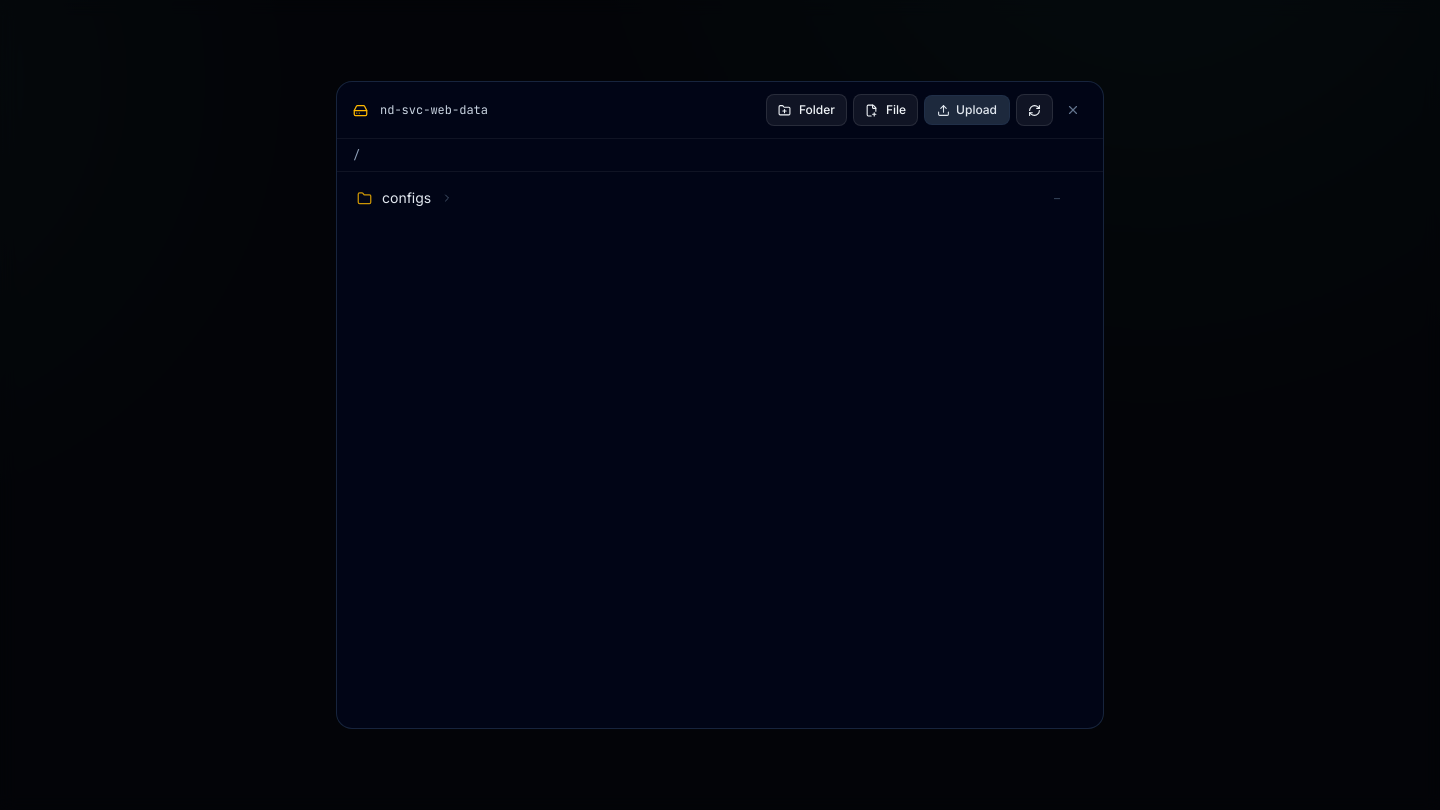
Test case: VolumeBrowser › covers save-pending state and nested folder/file creation paths
This screenshot has width=1440, height=810.
Note: folder creation inside a subdirectory (cwd non-empty branch)
Click the button "configs" at (407, 198), box [357,188,1044,208]
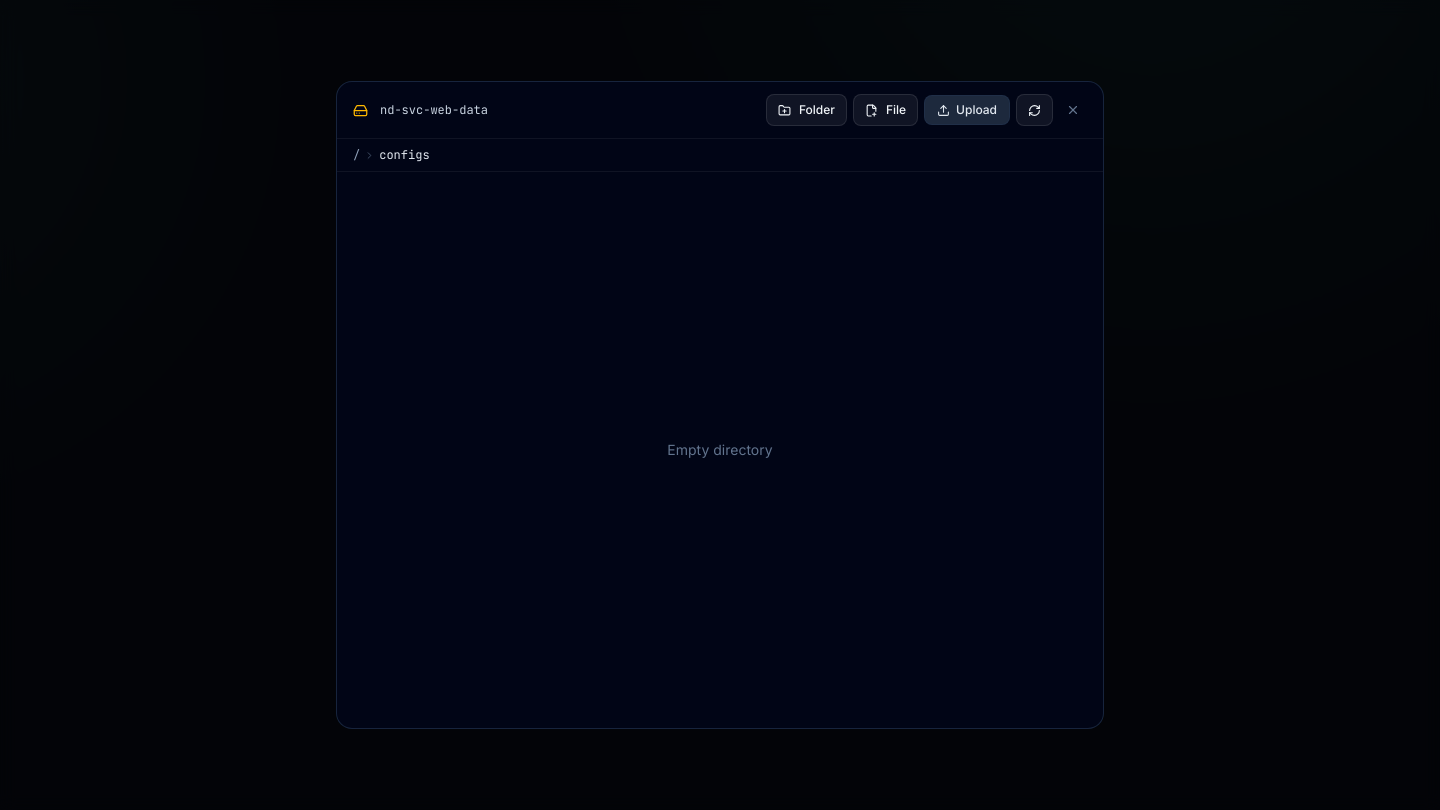
Now the text "Empty directory" is shown, box [667,441,773,458]
Click the button "Folder" at (806, 110), box [766,94,847,126]
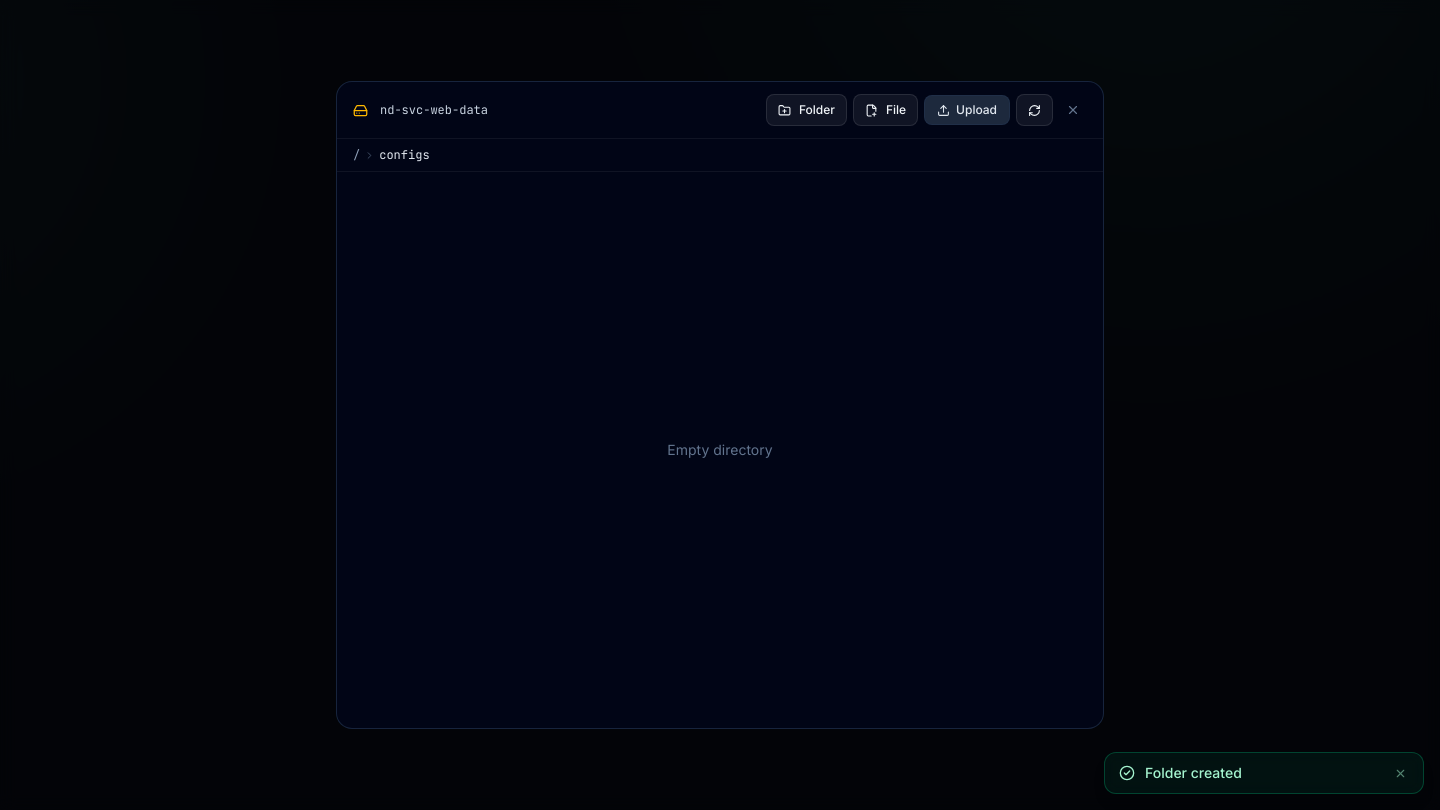
Note: new file inside a subdirectory (cwd non-empty branch)
Click the button "File" at (886, 110), box [853,94,918,126]
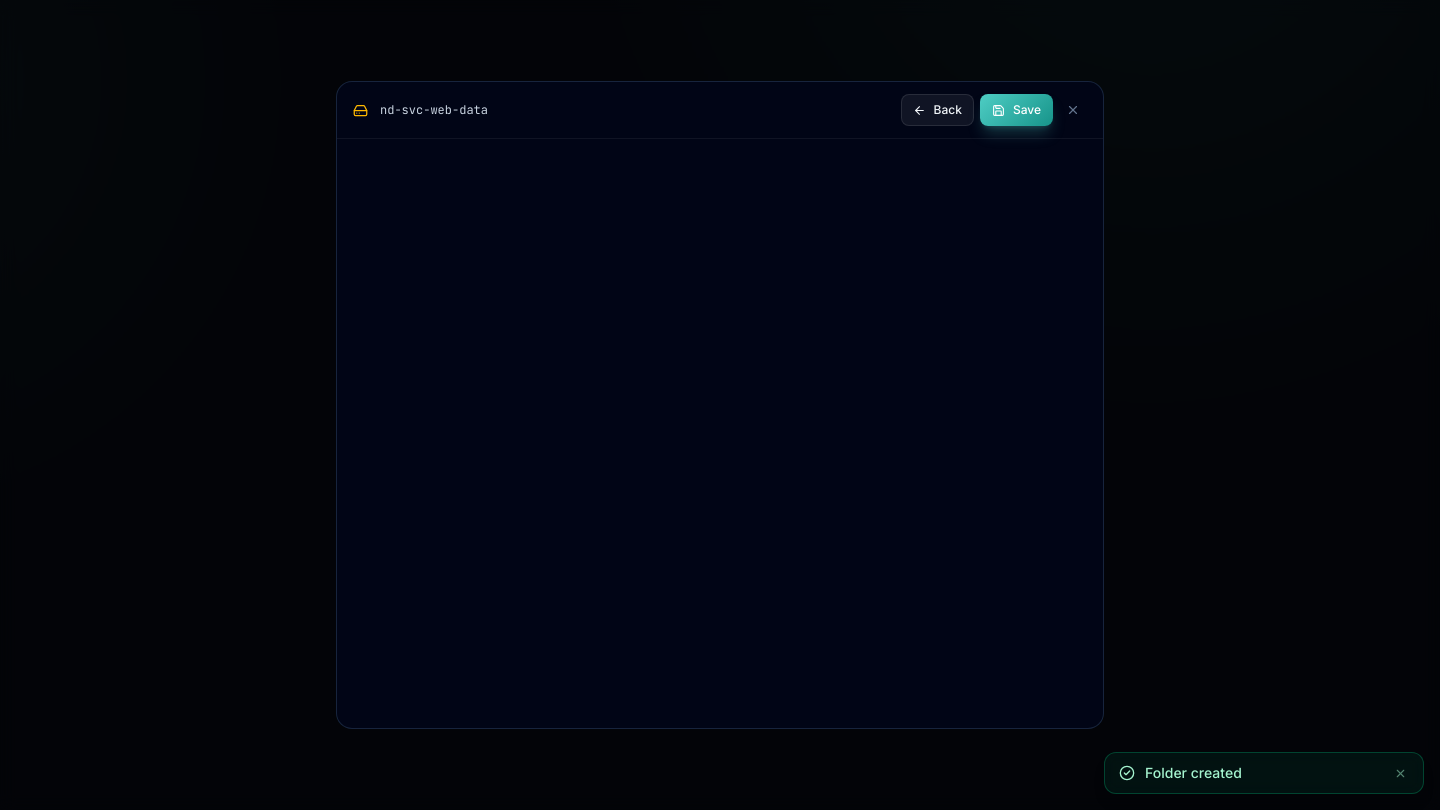
Now the text box named "File editor" is empty
Note: save in-flight shows the pending label
Type "body" into the text box named "File editor" at (720, 434), box [337,139,1103,728]
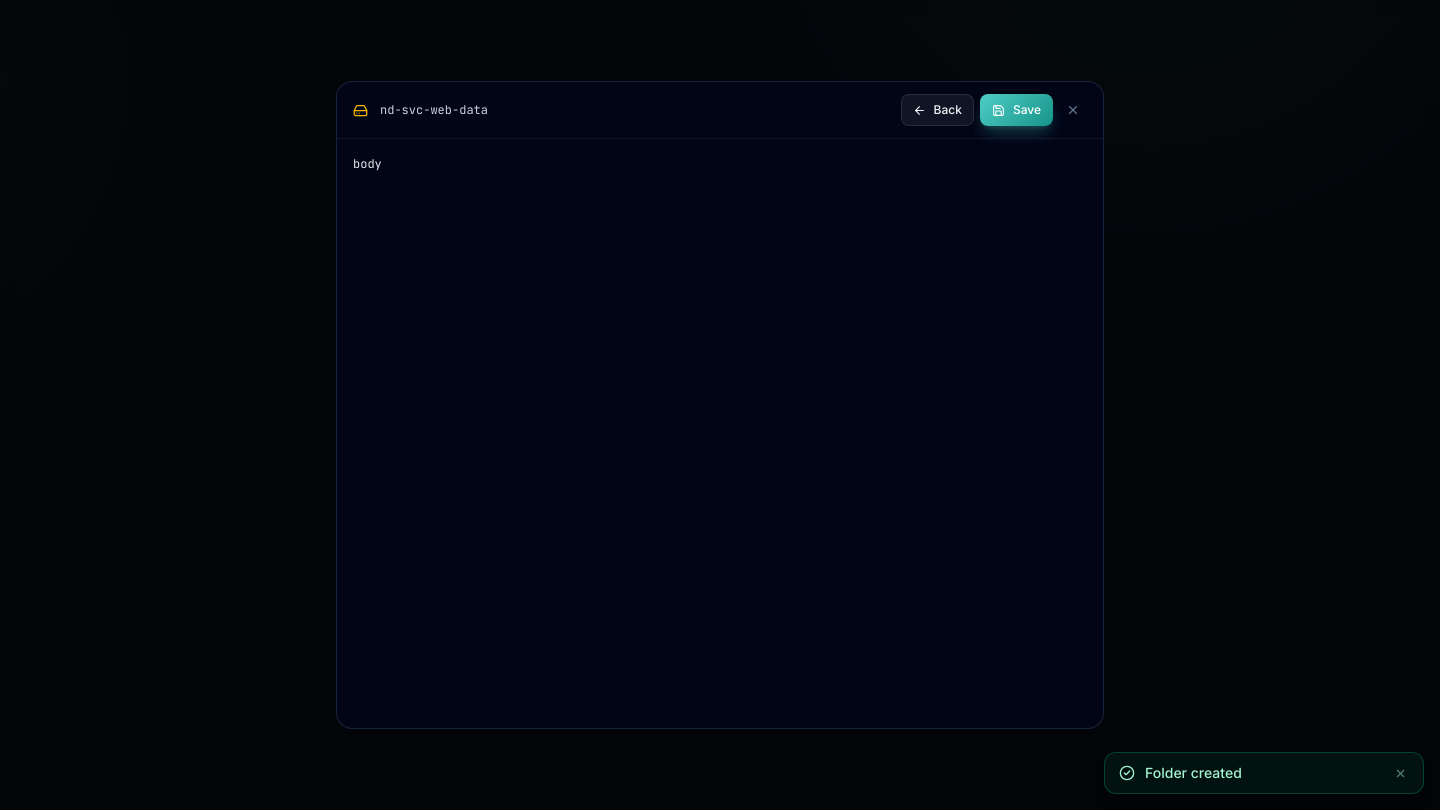
Click the button "Save" at (1016, 110), box [980,94,1053,126]
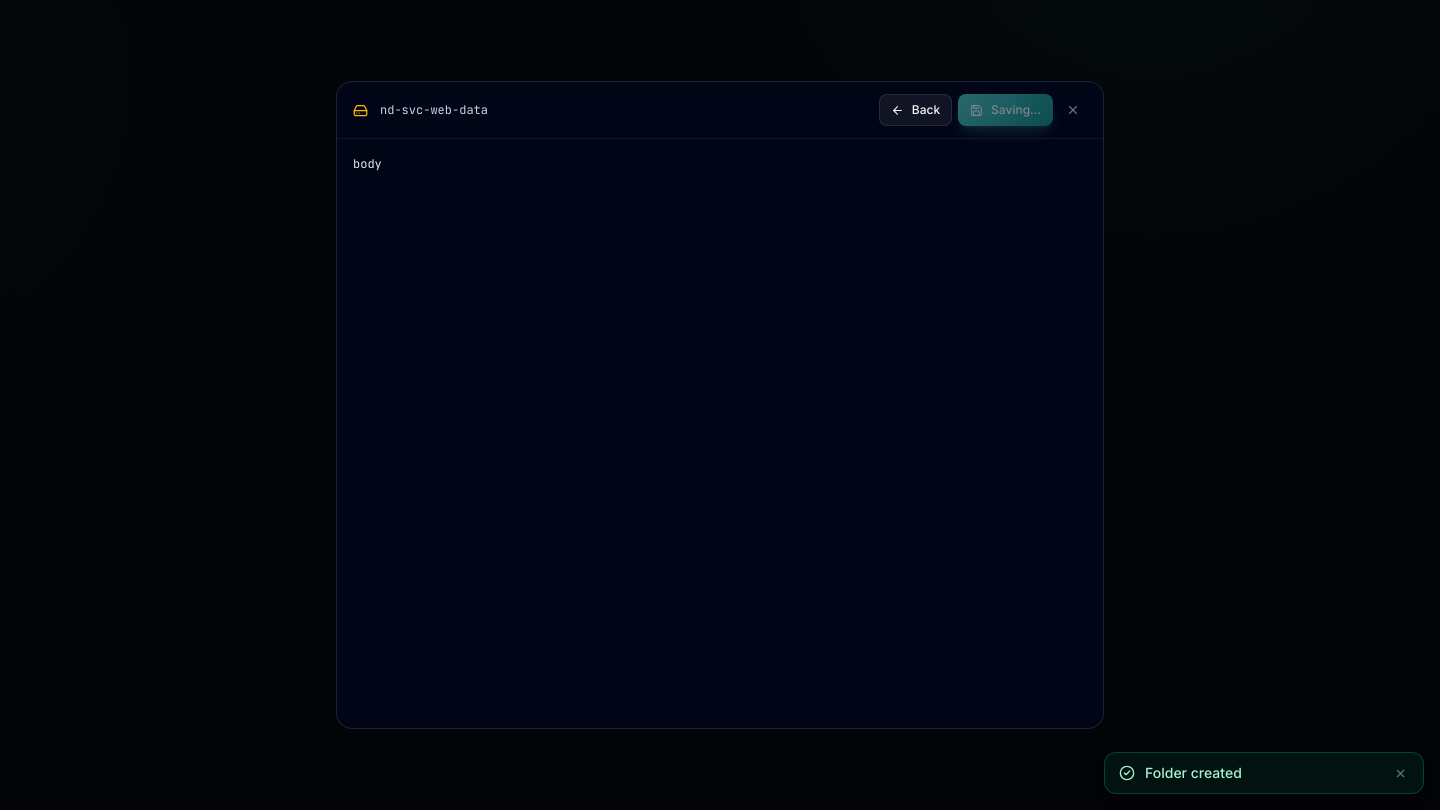
Now the button "Saving…" is shown, box [958,94,1053,126]
